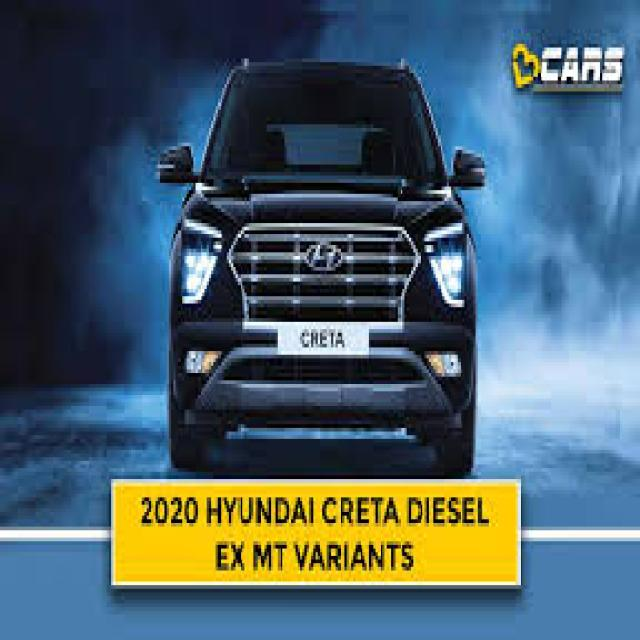SUV: (167, 64, 488, 484)
